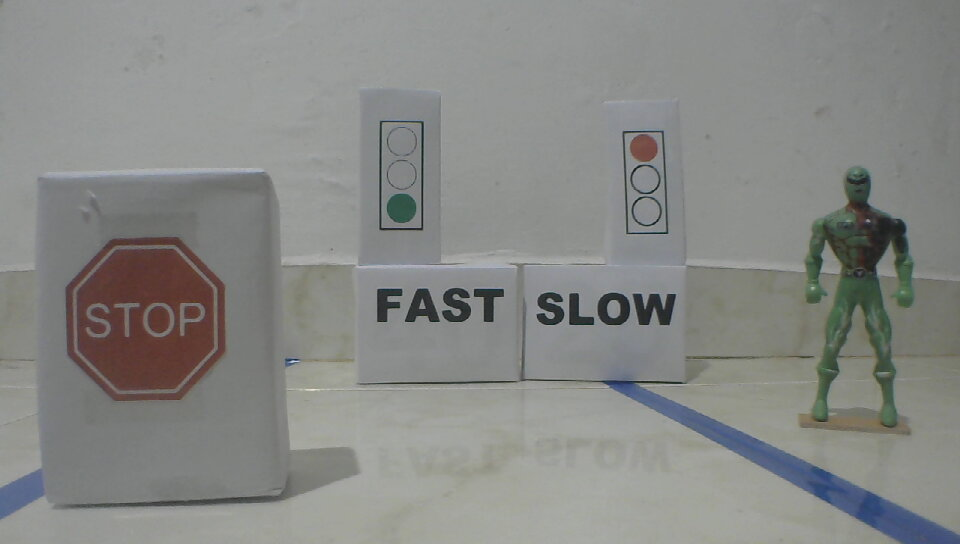Fast: (376, 284, 507, 322)
Green Traffic Light: (378, 119, 428, 232)
Person: (804, 167, 922, 425)
Red Traffic Light: (621, 127, 670, 238)
Slow: (534, 290, 675, 327)
Stop Sign: (61, 236, 229, 403)
